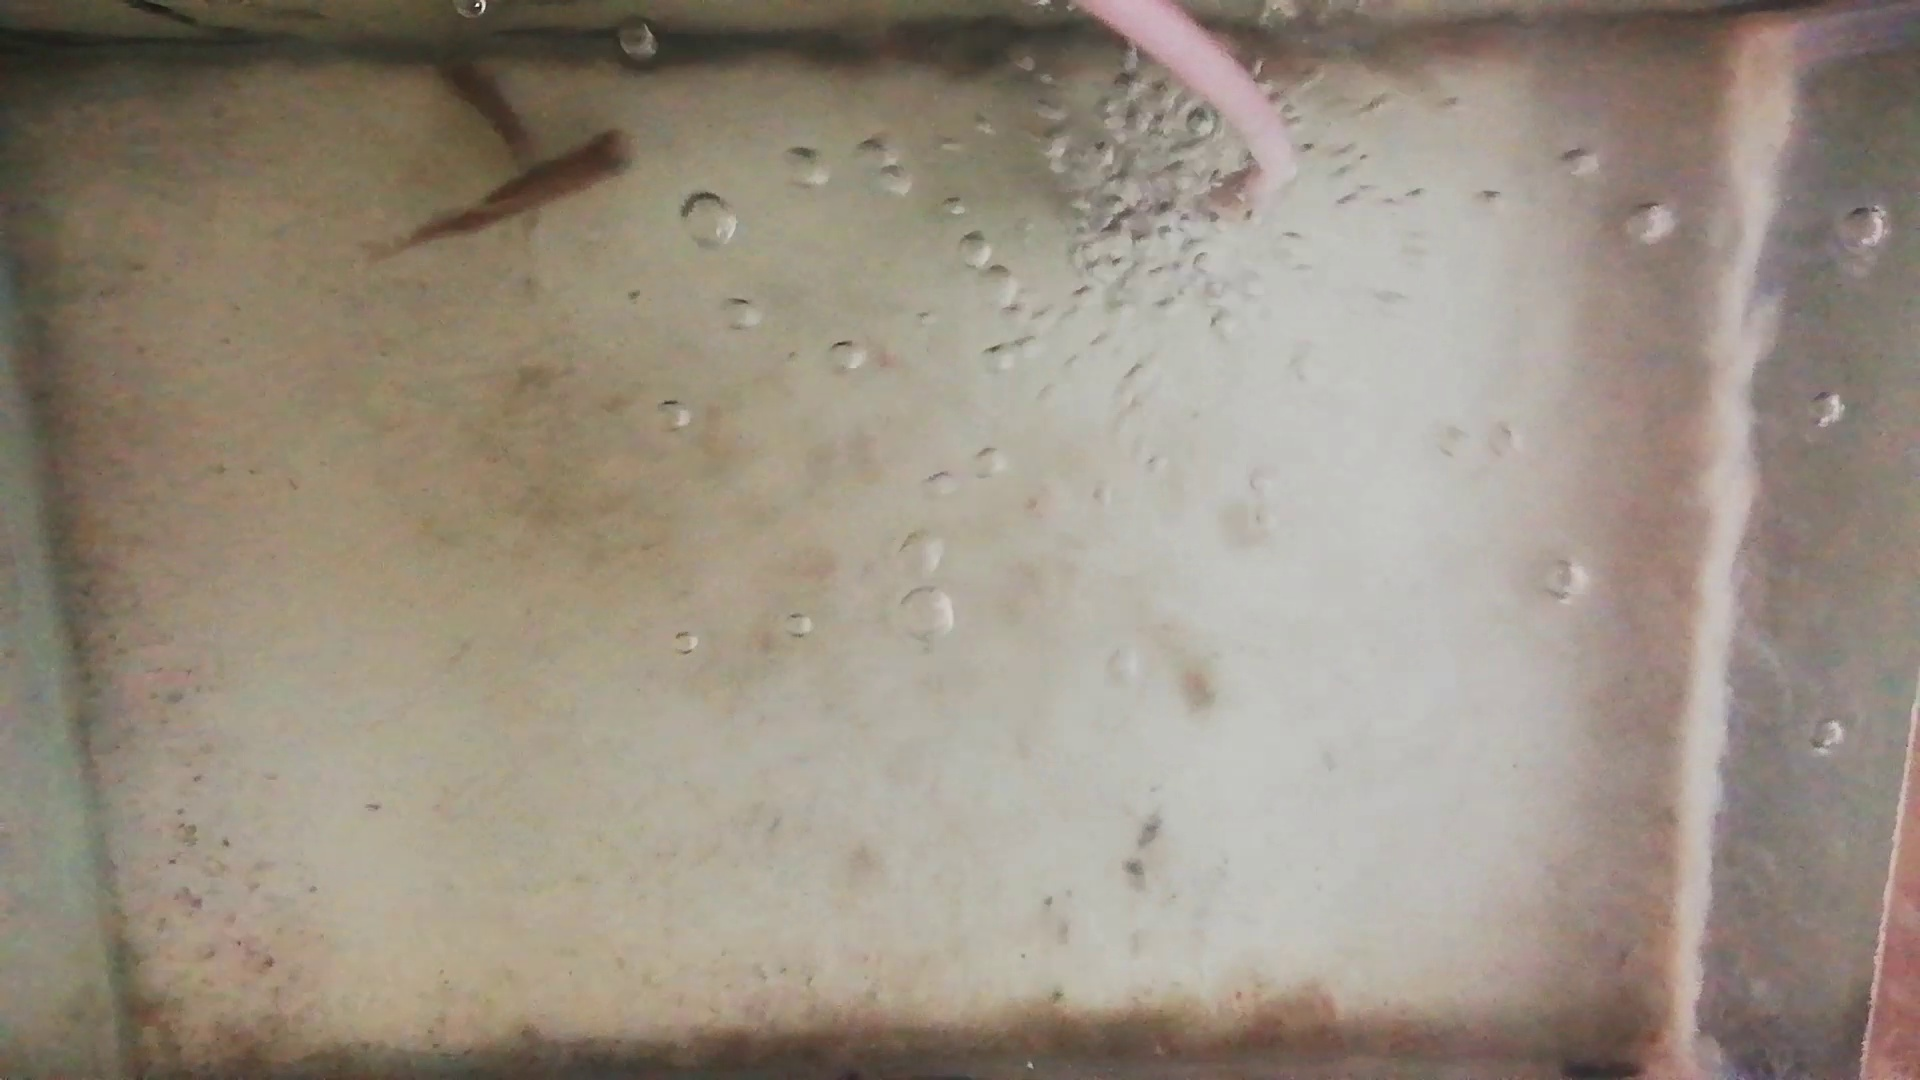fish: (404, 132, 637, 239), (429, 55, 535, 175)
